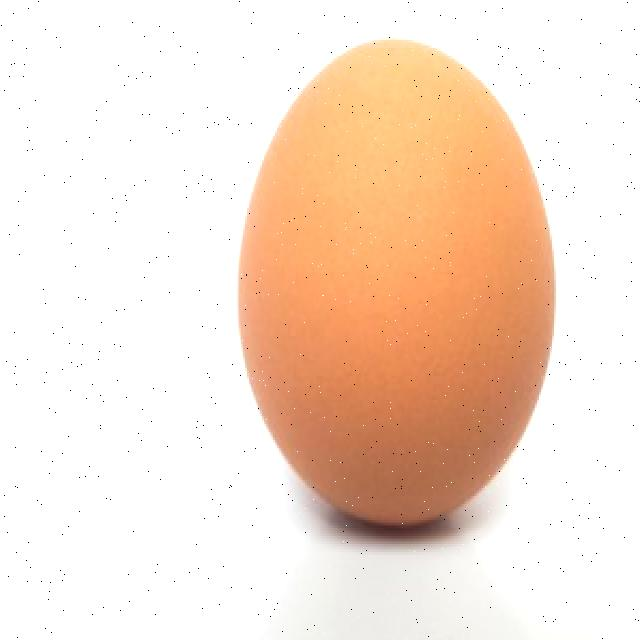Brown Egg: (213, 23, 565, 538)
